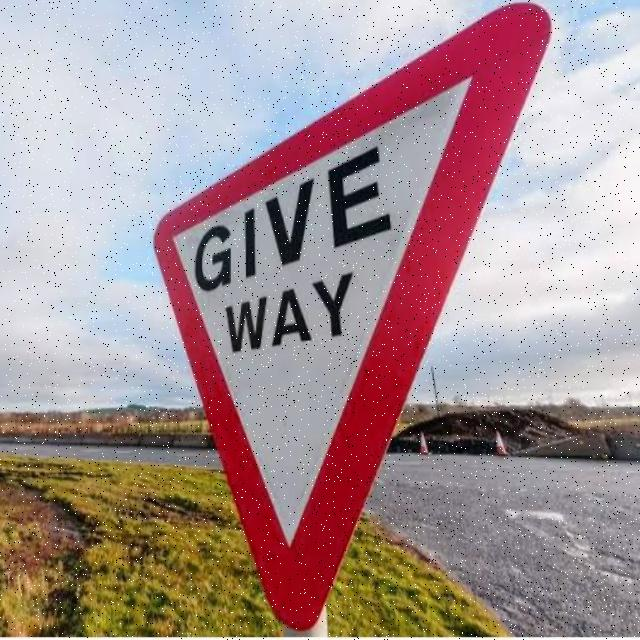giveway: (152, 0, 553, 632)
